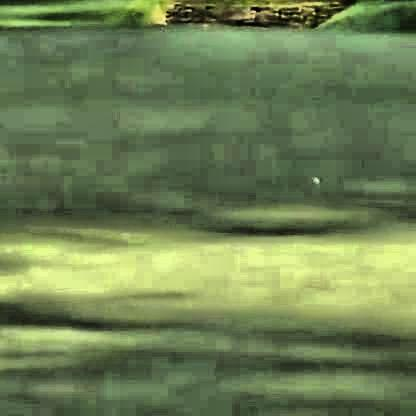golfball: (308, 171, 319, 182)
